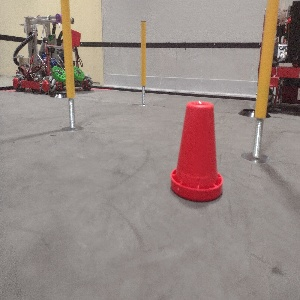Red_1: (169, 98, 223, 200)
